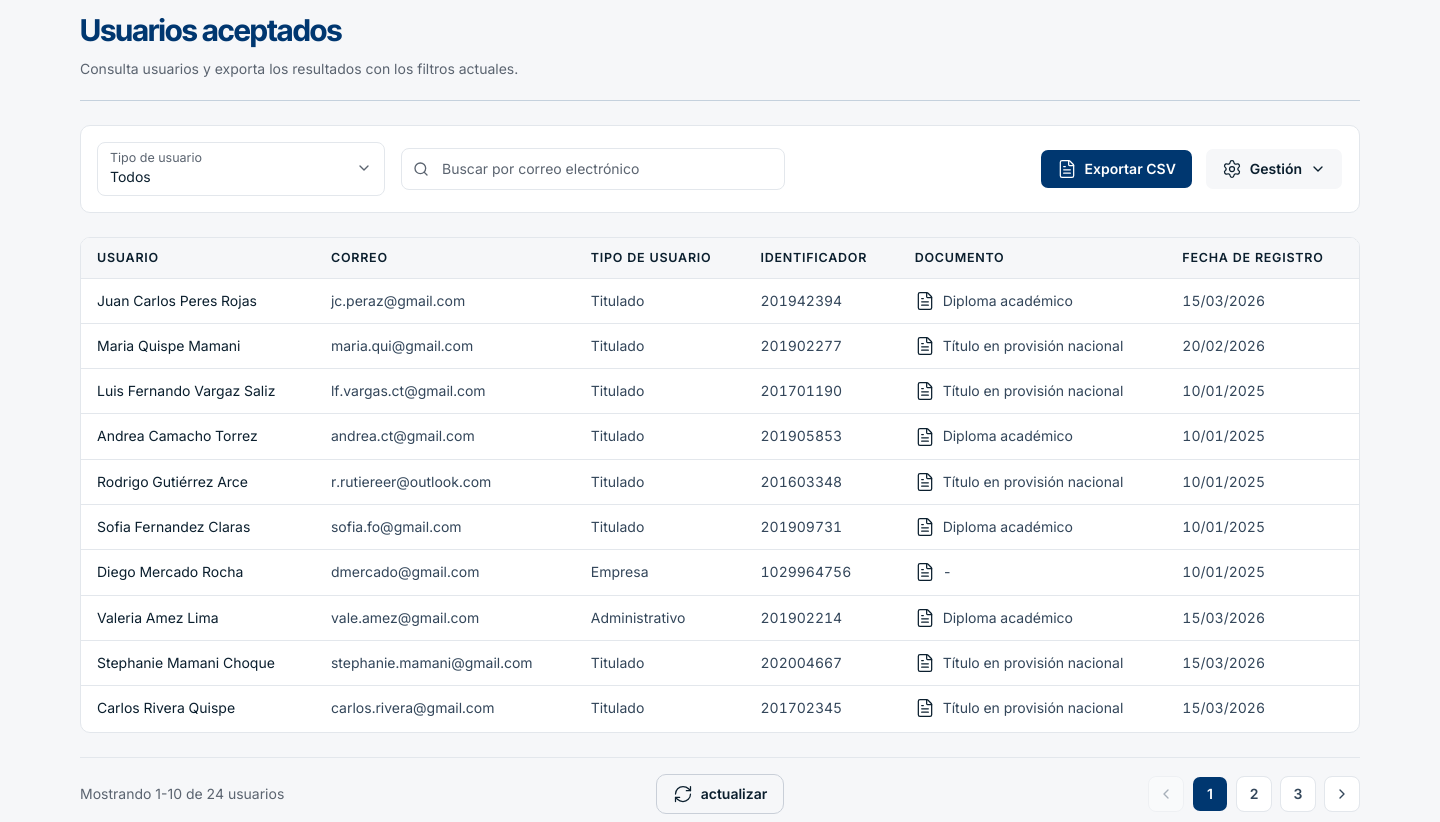
RegisteredUsersReportView › navega a la última página
Expected: the text "Juan Carlos Peres Rojas" is shown, [81,278,315,323]
Click the button named "Página 3".
click(1298, 794)  # box [1280,776,1316,812]
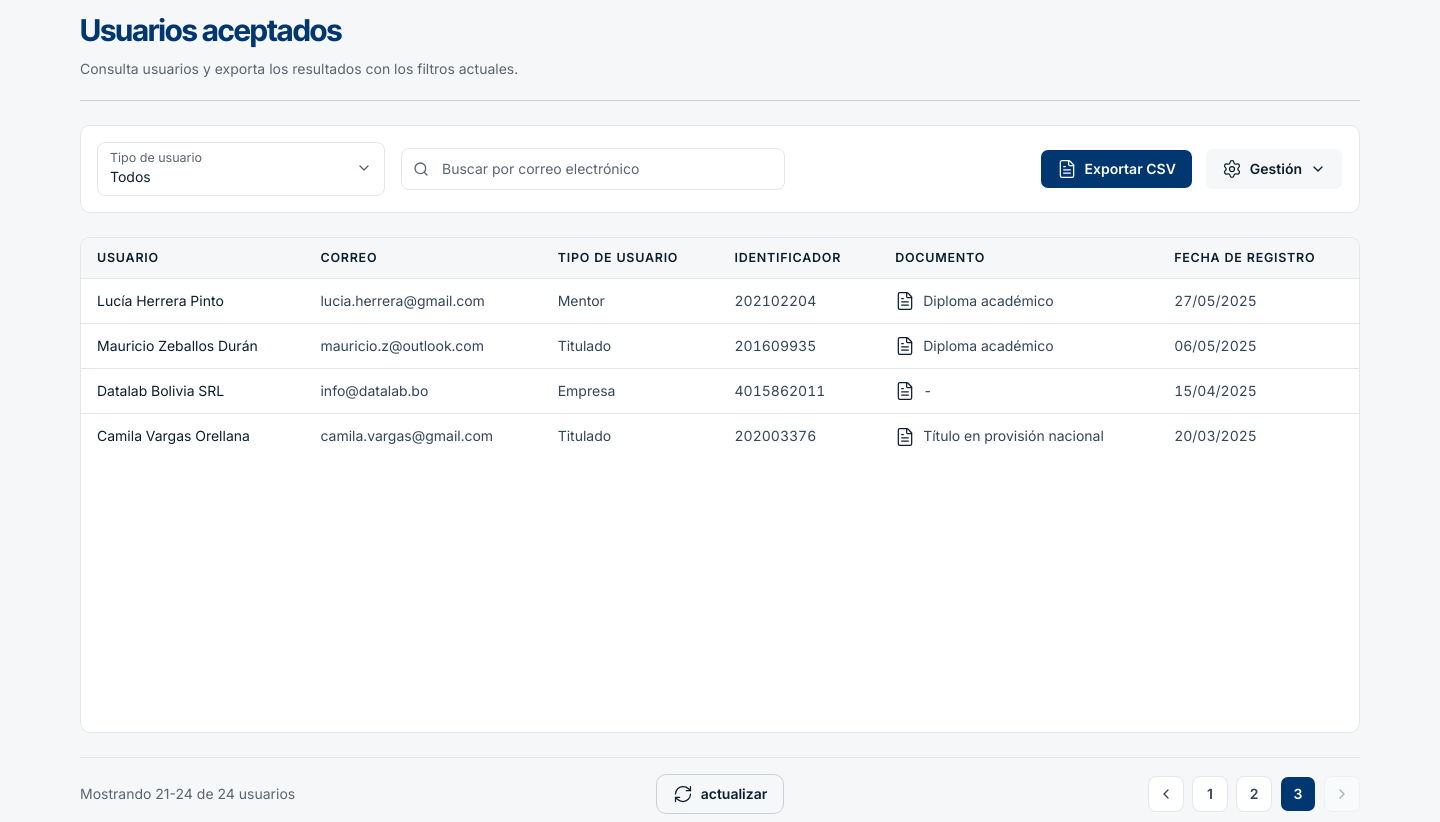
Expected: the text "Camila Vargas Orellana" is shown, [81,414,304,459]
Expected: the text "Mostrando 21-24 de 24 usuarios" is shown, [80,785,295,802]
